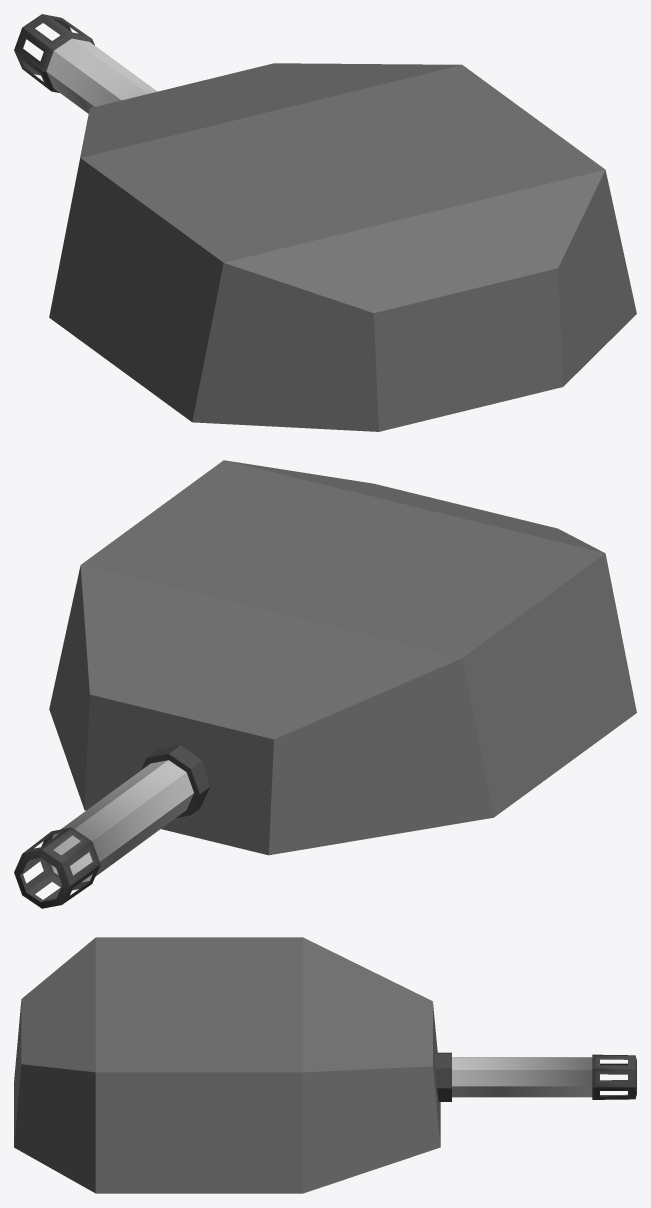
The model's file is Flame2.fbx.
The picture shows the model from 3 angles, top to bottom: view 1: azimuth 30°, elevation 25°; view 2: azimuth 150°, elevation 25°; view 3: azimuth 270°, elevation 25°; orthographic projection. The views are drawn at different scales.
Visible parts, largest first — view 1: Cube.001; view 2: Cube.001; view 3: Cube.001.
Part boxes in pixels (<box>): Cube.001: <box>14,14,636,431</box>; Cube.001: <box>14,460,636,908</box>; Cube.001: <box>14,937,636,1193</box>.
Size of the model in its own units: 146 by 47.83 by 245.
Materials: 1 (1 with a texture image).
